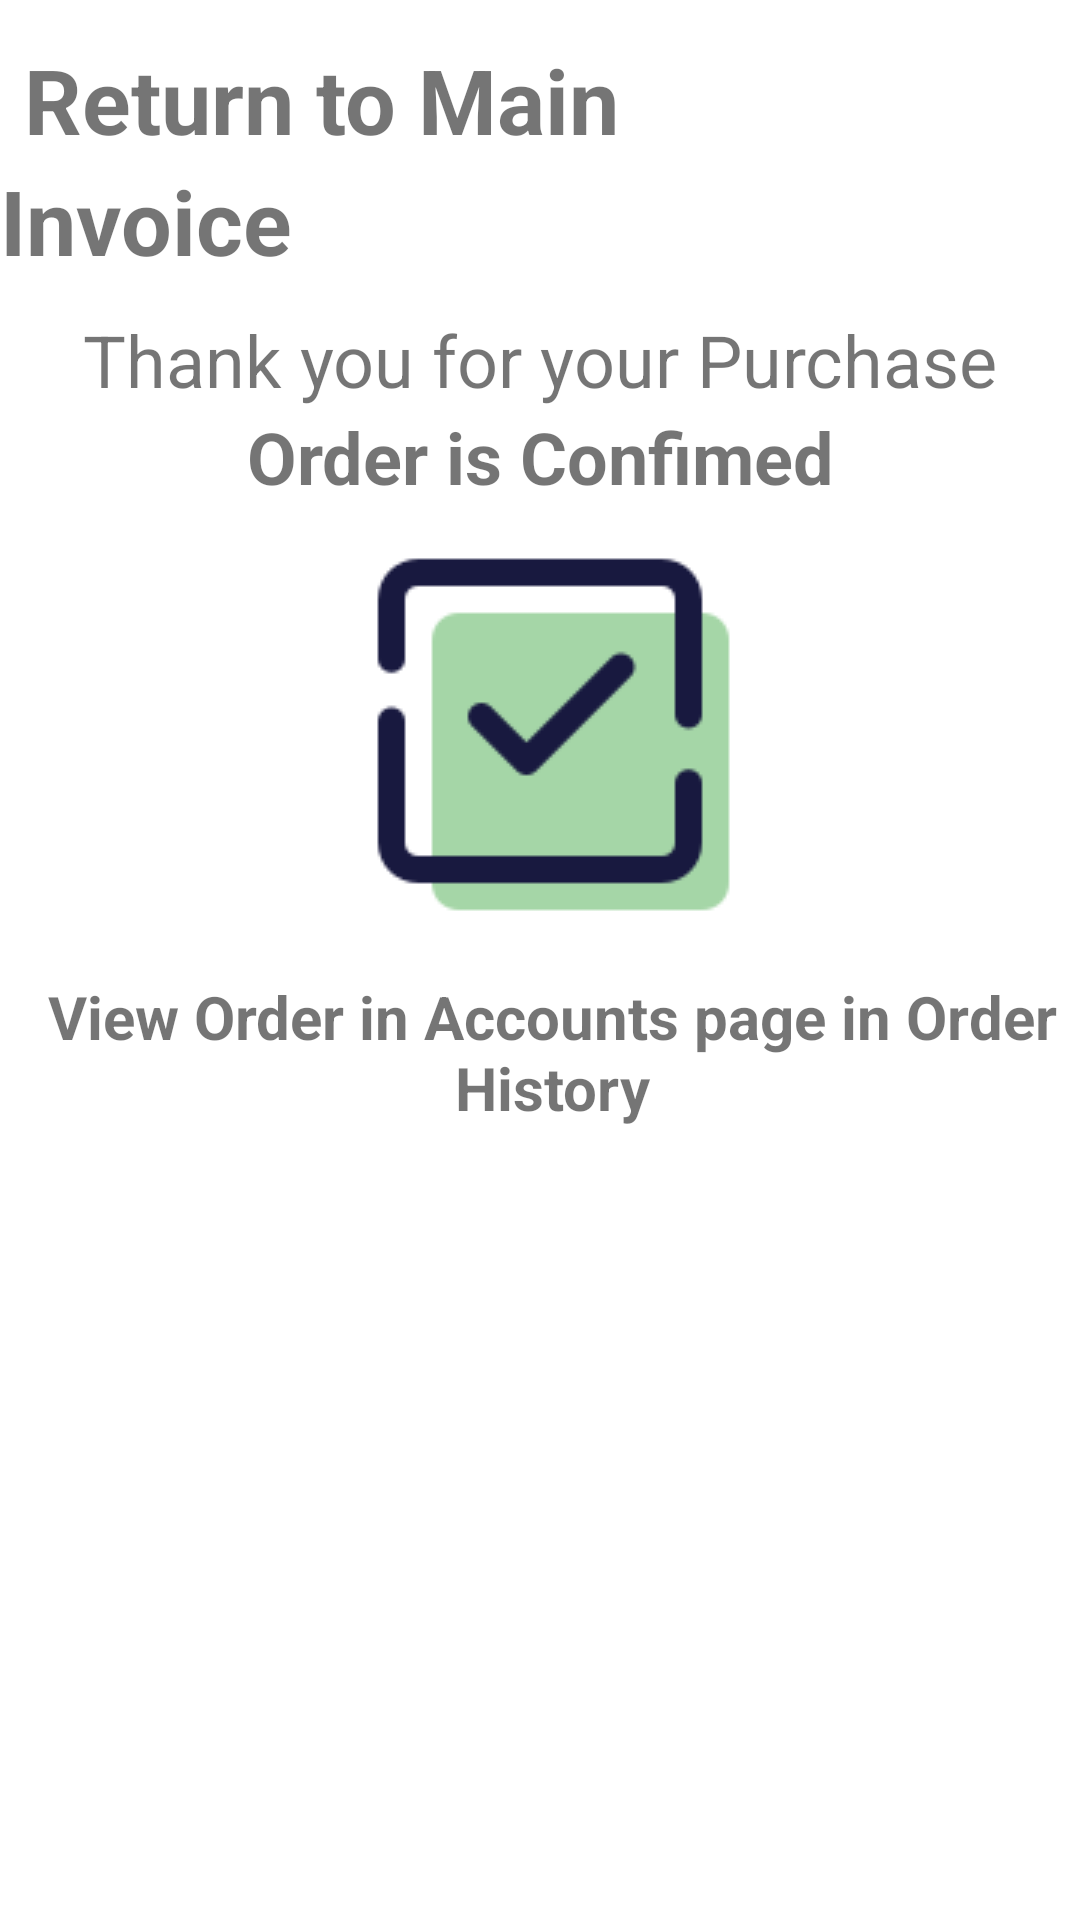

Point at icon controls on the screen. Image size 1080 x 1920, points as [x,y].
tick: [553,734]
